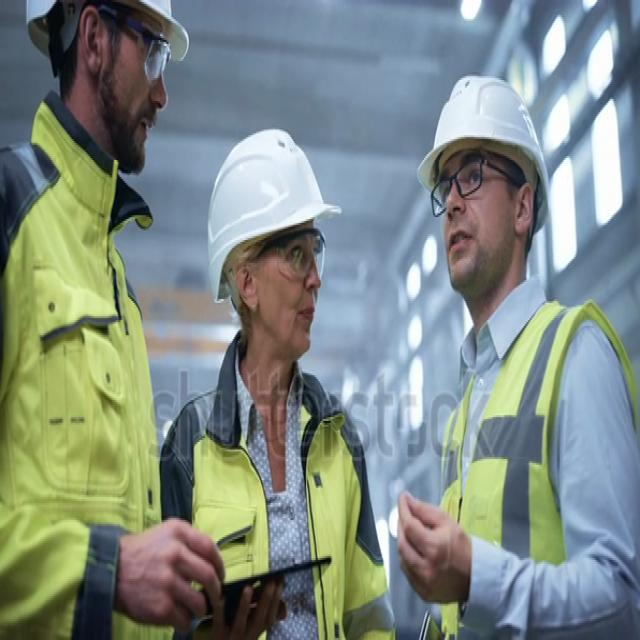goggles: (430, 145, 527, 224), (86, 5, 170, 92), (248, 232, 326, 283)
